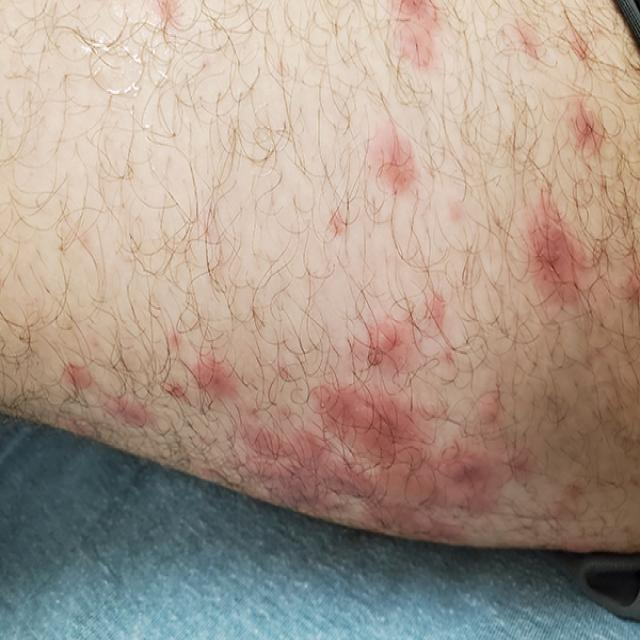Erythema multiforme -EM-: (368, 5, 623, 356), (296, 412, 456, 509), (196, 355, 251, 426)
